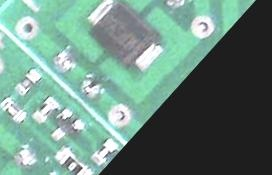chip-resistor: (54, 146, 91, 175), (90, 137, 118, 166), (31, 94, 58, 124), (13, 66, 40, 94), (0, 95, 27, 123)
diode: (81, 0, 170, 75)
transistor: (44, 105, 84, 147)
